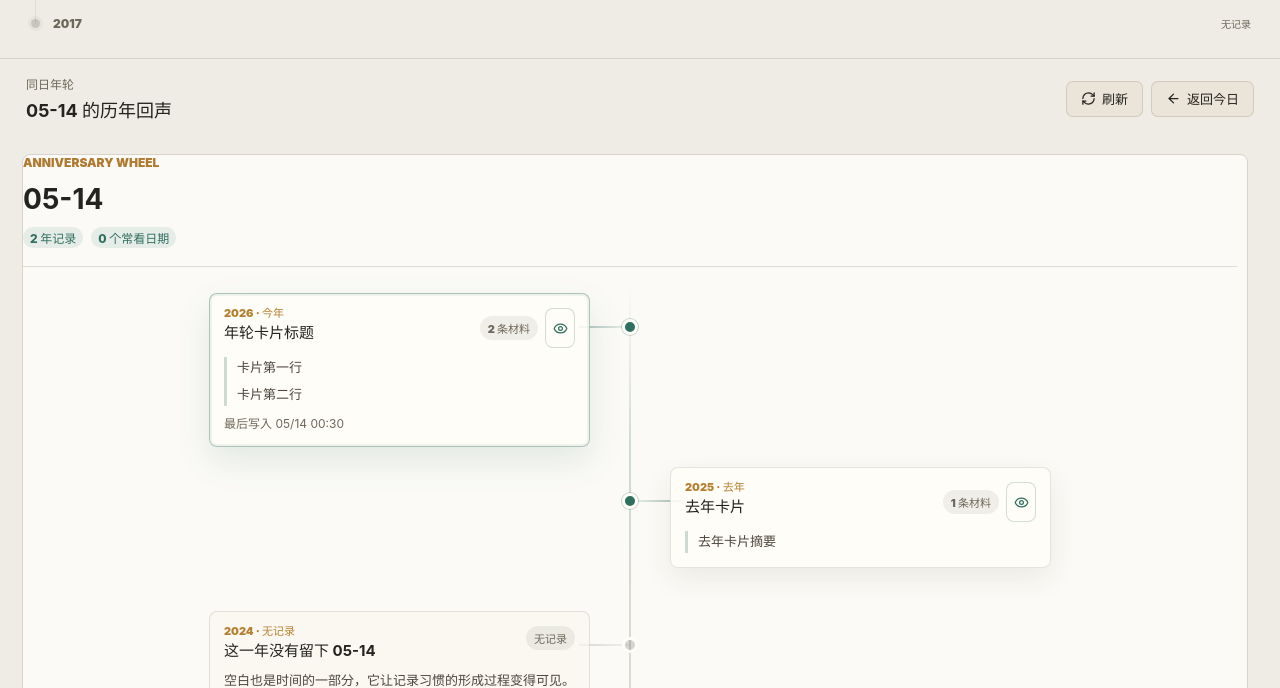
AnniversaryWheelWorkbench › waits for selected entry detail instead of flashing summary hits
(page scrolled)
Click the button named "阅读 2026-05-14 日记": (560, 328) 545,308 -> 575,348
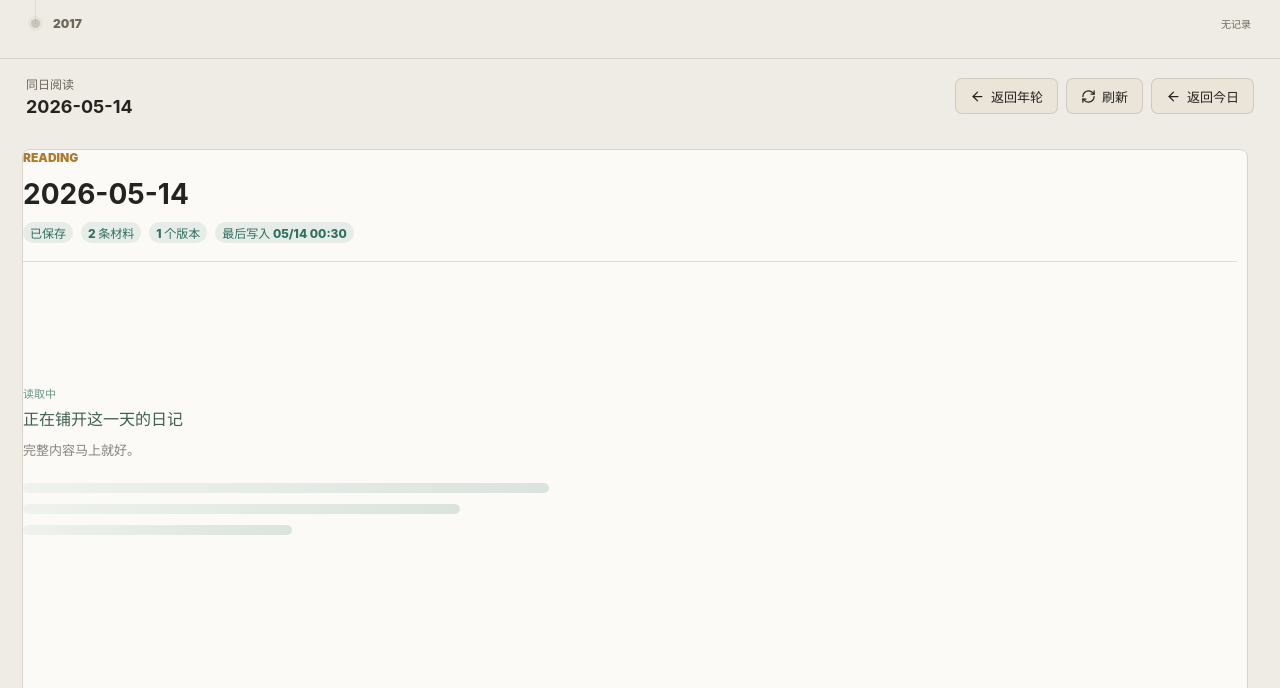
Result: the element named "同日当前日记读取中" is shown at 23,387 -> 549,535
Result: the text "正在铺开这一天的日记" is shown at 23,409 -> 183,429
